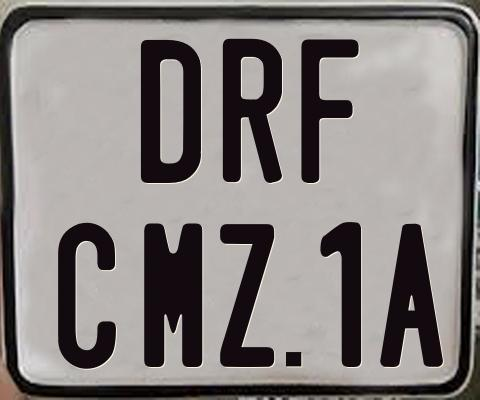1: (319, 219, 362, 364)
A: (377, 222, 440, 370)
C: (58, 223, 122, 370)
D: (138, 40, 200, 188)
F: (299, 37, 360, 186)
M: (141, 220, 201, 368)
R: (221, 37, 285, 186)
Z: (218, 221, 273, 369)
